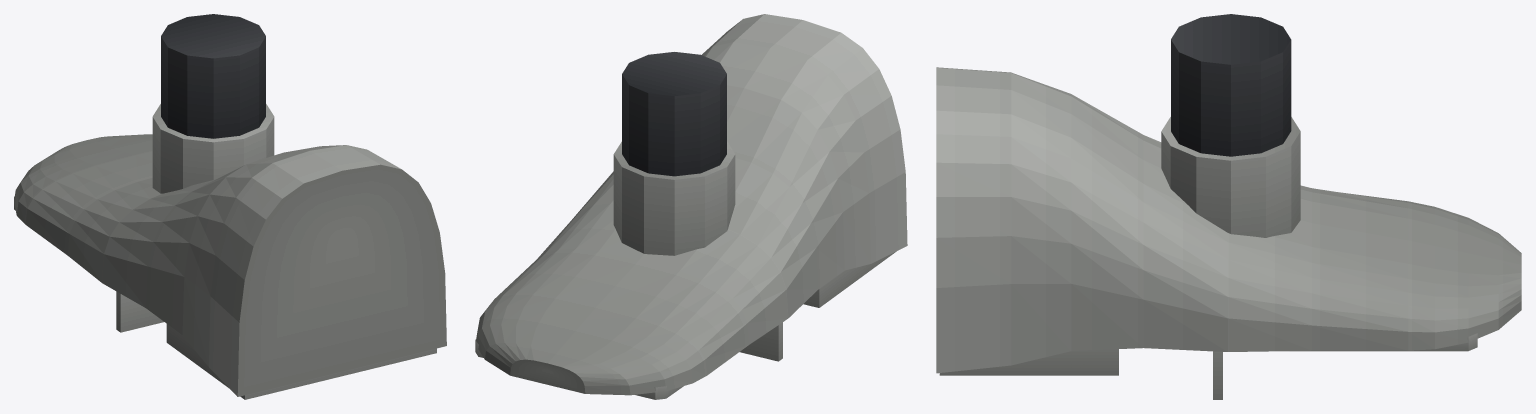
The model's file is streetlight_ltkc0hss.obj.
3 views of the same model, side by side, from view 1: azimuth 30°, elevation 25°; view 2: azimuth 150°, elevation 25°; view 3: azimuth 270°, elevation 25° (orthographic). The views are drawn at different scales.
Visible parts, largest first — view 1: fixture; view 2: fixture; view 3: fixture.
Part boxes in pixels (<box>): fixture: <box>14,14,446,399</box>; fixture: <box>475,14,907,399</box>; fixture: <box>936,14,1521,399</box>.
Bounding box in the file's own units: 0.2937 × 0.3313 × 0.5772.
